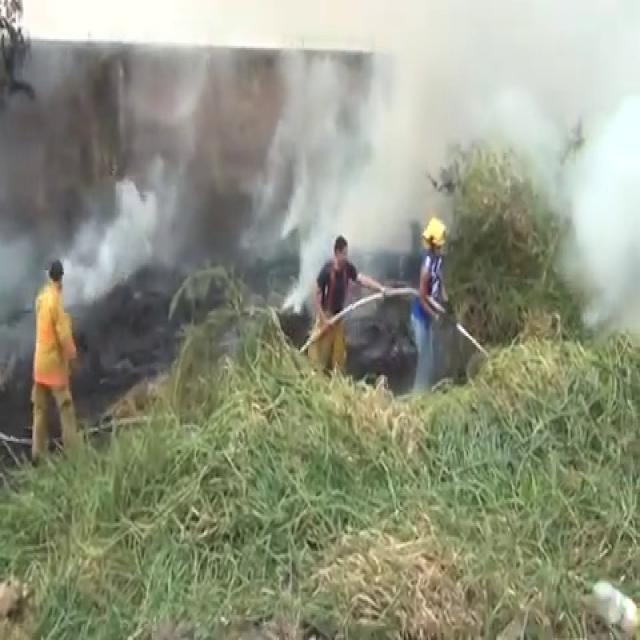Smoke: (258, 0, 640, 309), (68, 68, 240, 318)
